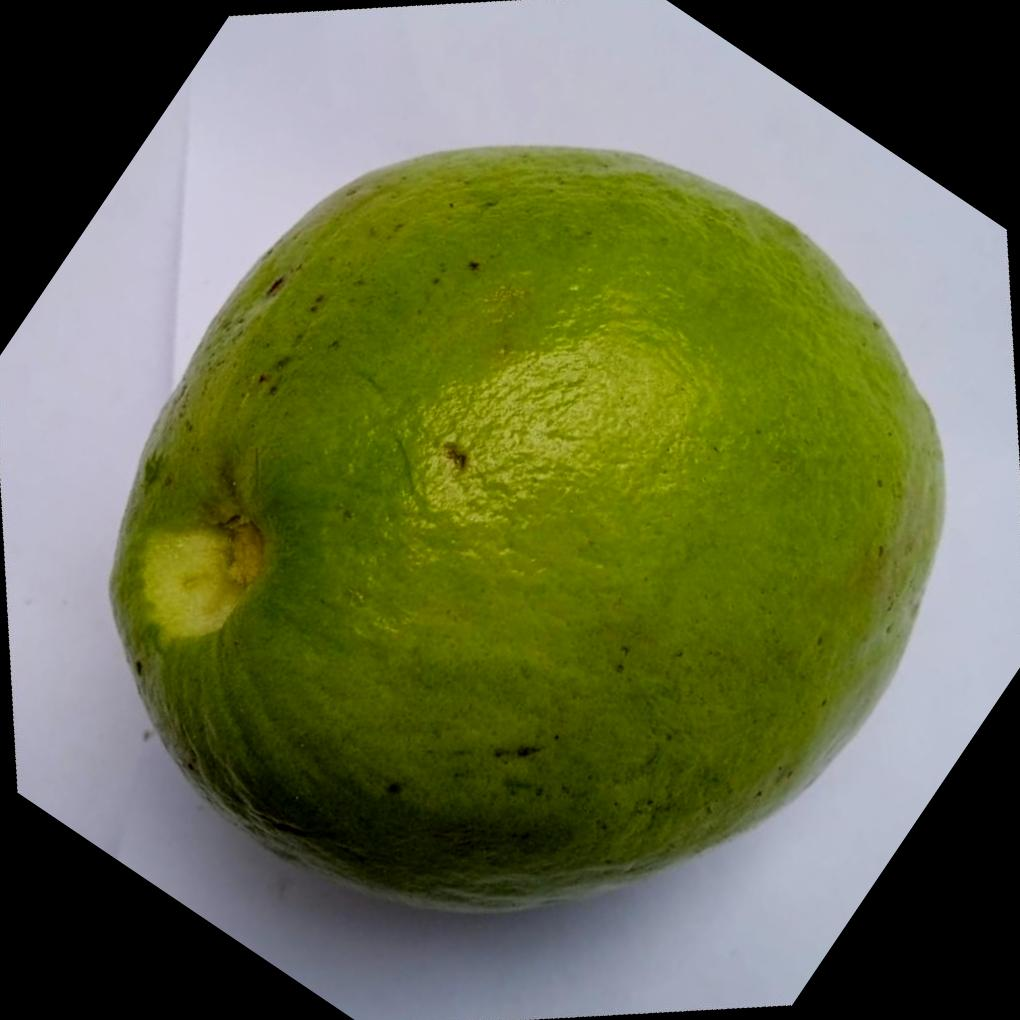FreshGuava: (102, 144, 946, 919)
